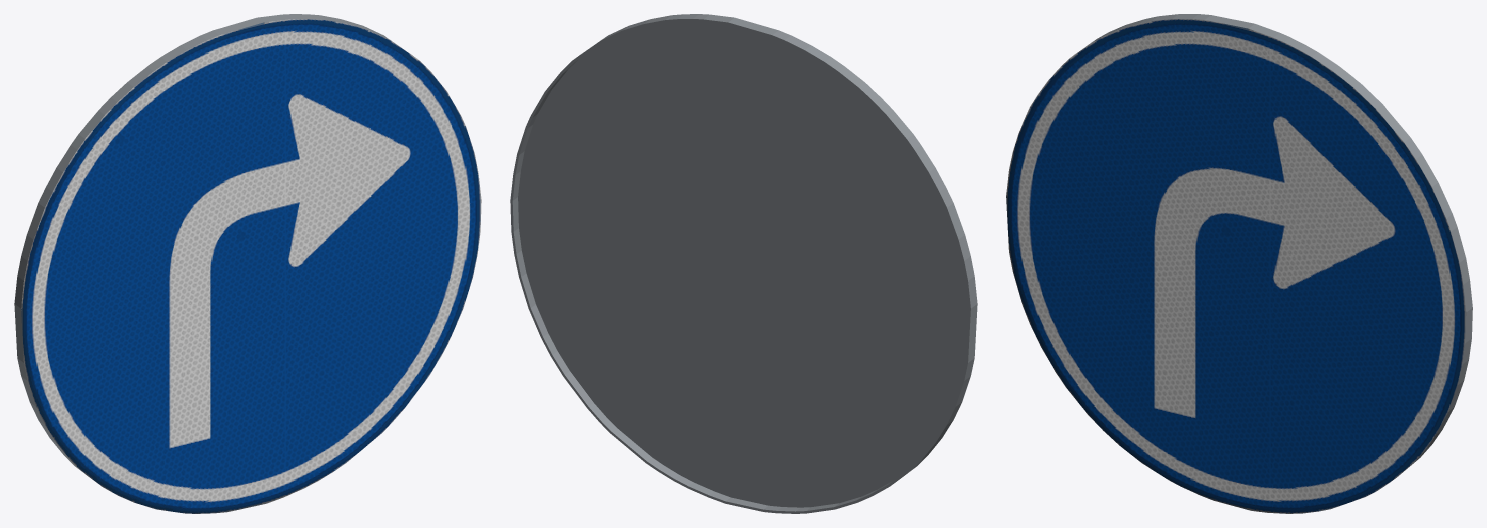
3 renders of one model, left to right at view 1: azimuth 30°, elevation 25°; view 2: azimuth 150°, elevation 25°; view 3: azimuth 330°, elevation 25°, orthographic.
Parts seen in each view (by area): view 1: cat_90387e057e19e88a; view 2: cat_90387e057e19e88a; view 3: cat_90387e057e19e88a.
Boxes of the visible parts, x1,y1,x2,y2 form: cat_90387e057e19e88a: [14, 14, 481, 513]; cat_90387e057e19e88a: [510, 14, 977, 513]; cat_90387e057e19e88a: [1006, 14, 1472, 513].
Bounding box in the file's own units: 0.6 × 0.015 × 0.6.
Materials: 2 (1 with a texture image).
